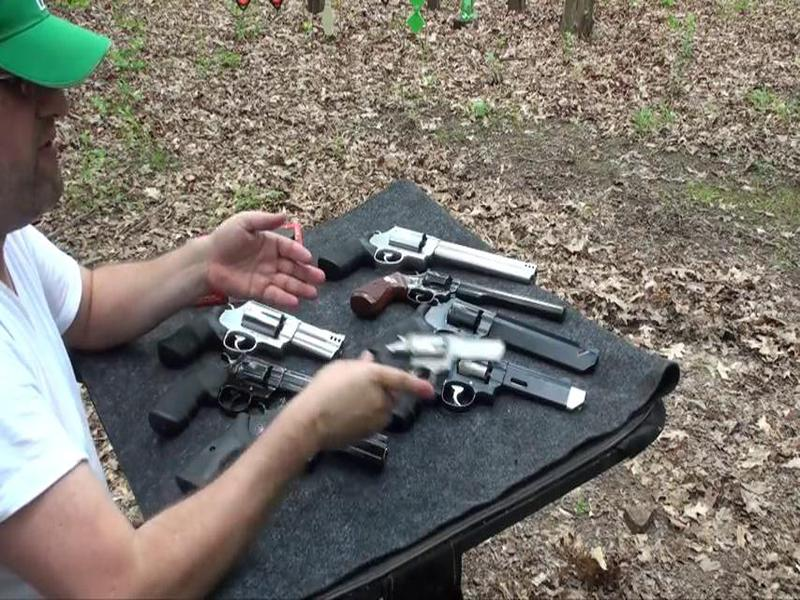Revolver: (331, 209, 550, 299)
